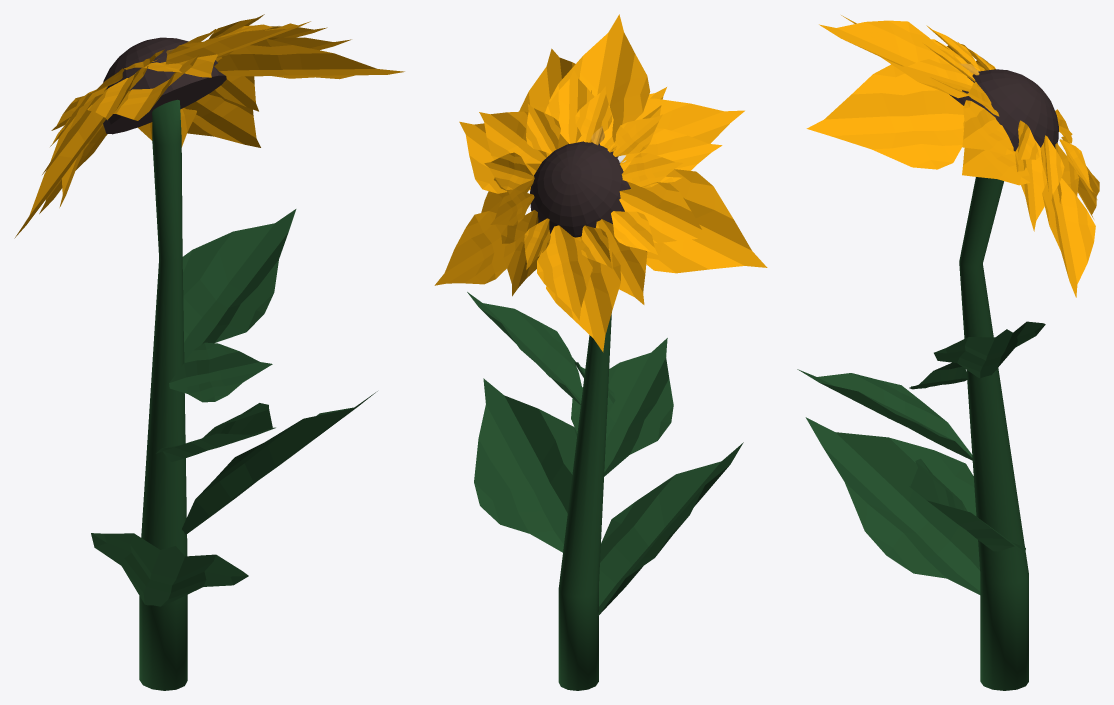
The model's file is Sunflower_TTC_v04.fbx.
3 views of the same model, side by side, from view 1: azimuth 30°, elevation 25°; view 2: azimuth 150°, elevation 25°; view 3: azimuth 270°, elevation 25° (orthographic). The views are drawn at different scales.
Visible parts, largest first — view 1: Plane.012, Plane.009, Sphere.004; view 2: Plane.009, Plane.012, Sphere.004; view 3: Plane.012, Plane.009, Sphere.004.
Part boxes in pixels (x1=…): Plane.012: x1=91, y1=99, x2=377, y2=690; Plane.009: x1=14, y1=14, x2=404, y2=238; Sphere.004: x1=103, y1=37, x2=226, y2=134; Plane.009: x1=434, y1=14, x2=767, y2=352; Plane.012: x1=467, y1=292, x2=743, y2=690; Sphere.004: x1=530, y1=141, x2=630, y2=237; Plane.012: x1=797, y1=177, x2=1045, y2=690; Plane.009: x1=806, y1=15, x2=1099, y2=297; Sphere.004: x1=949, y1=69, x2=1058, y2=151.
Size of the model in its own units: 757 by 1465 by 593.
